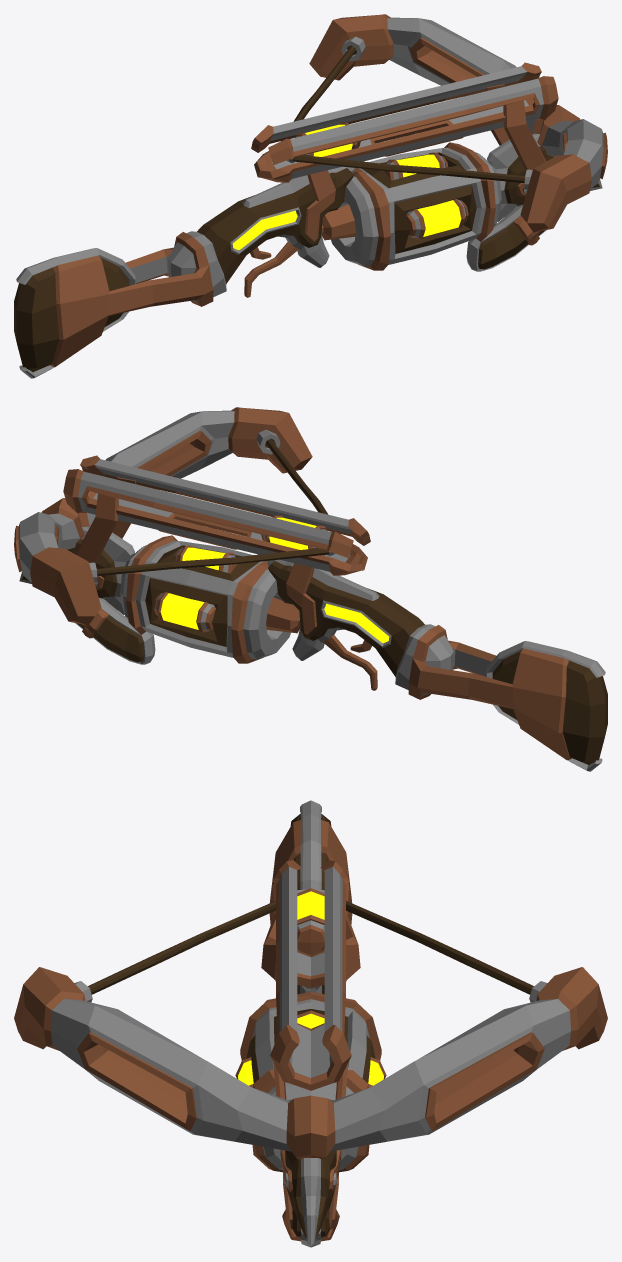
The model's file is acid_crossbow_drum_magazine.glb.
The picture shows the model from 3 angles, top to bottom: view 1: azimuth 30°, elevation 25°; view 2: azimuth 150°, elevation 25°; view 3: azimuth 270°, elevation 25°; orthographic projection. The views are drawn at different scales.
Parts seen in each view (by area): view 1: Cube; view 2: Cube; view 3: Cube.
Boxes of the visible parts, x1,y1,x2,y2 form: Cube: (14,14,607,378); Cube: (14,407,607,771); Cube: (14,800,607,1247).
Size of the model in its own units: 1.71 by 0.5264 by 1.15.
